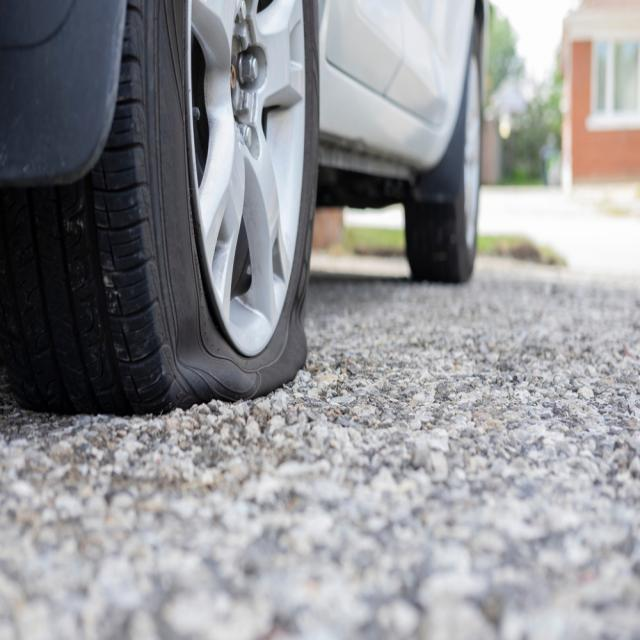tire flat: (0, 0, 321, 416)
